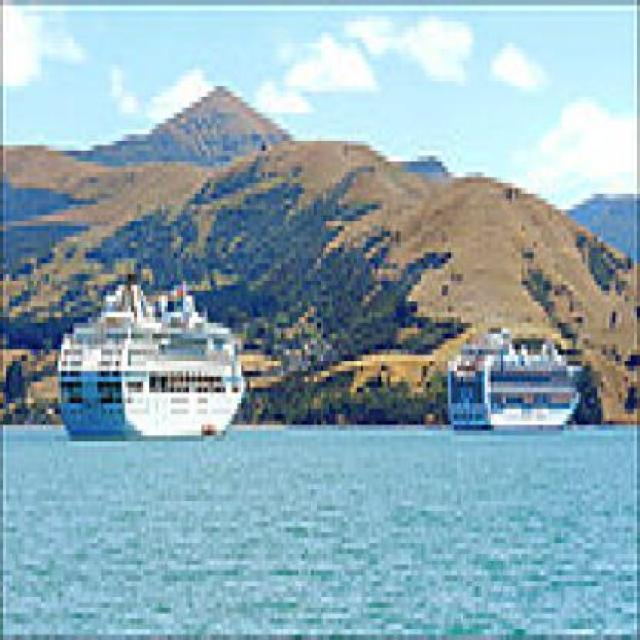cruise: (53, 275, 251, 447), (441, 312, 590, 448)
